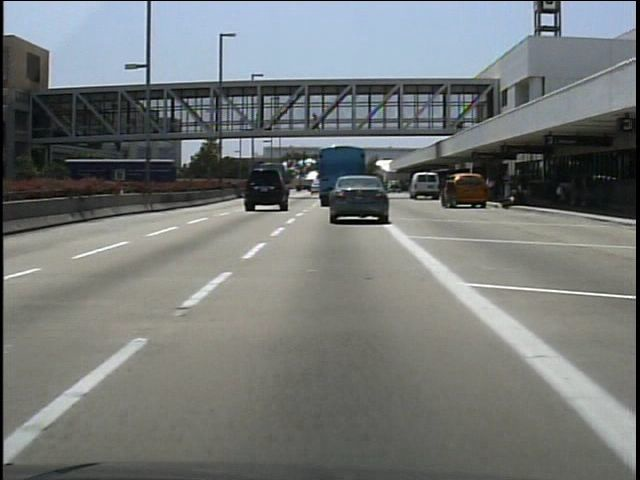person: (442, 176, 461, 215), (249, 109, 265, 132), (309, 111, 323, 137)
